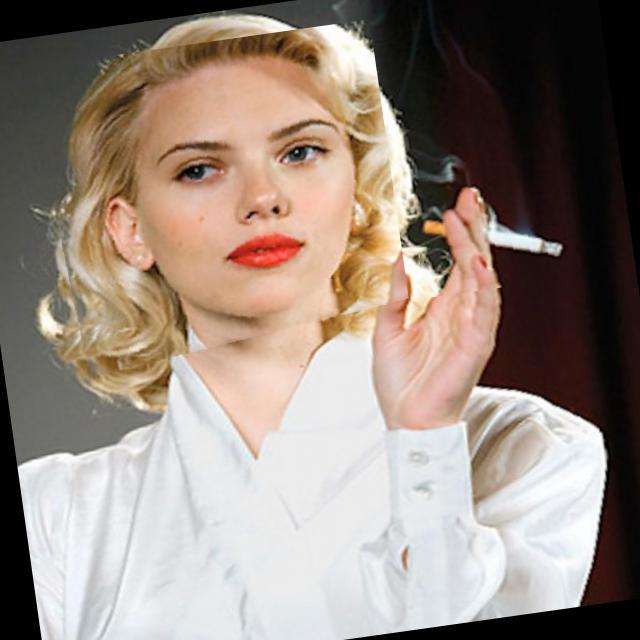cigarette: (407, 160, 572, 298)
